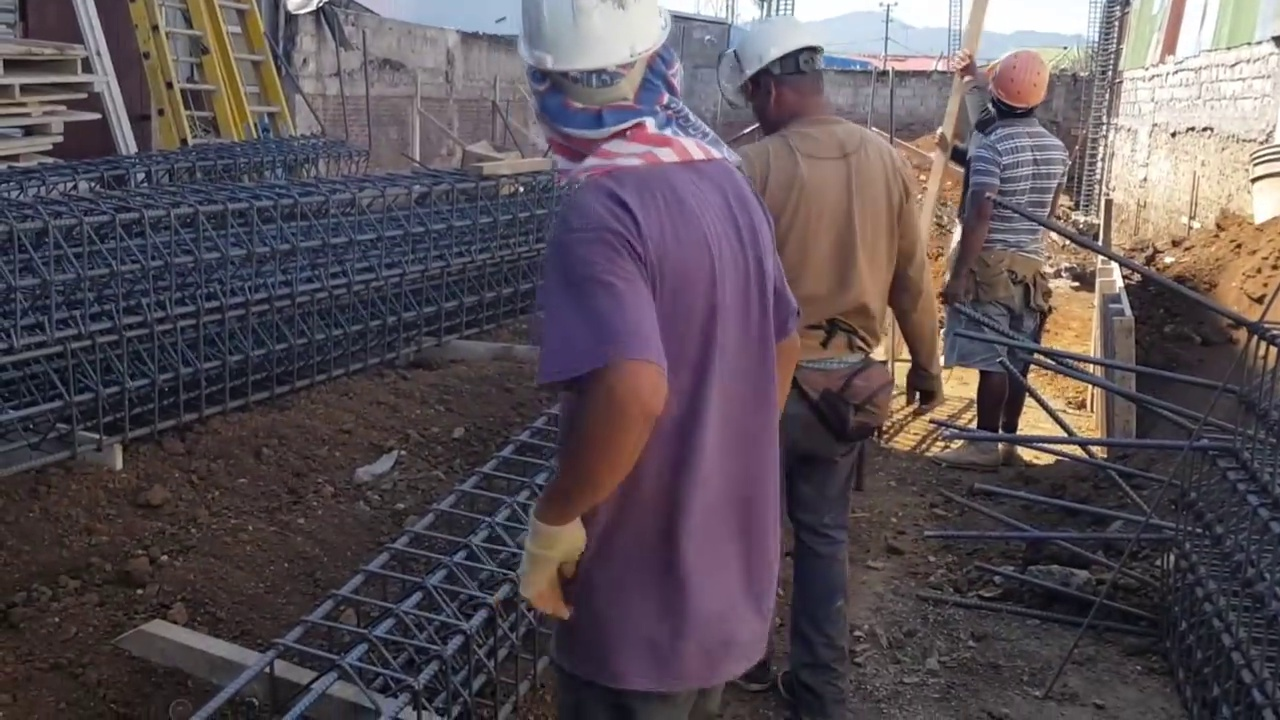helmet: (517, 3, 678, 81), (722, 23, 820, 106), (992, 49, 1058, 110)
helmet-on: (518, 0, 704, 179), (719, 18, 840, 136), (980, 44, 1058, 132)
person: (517, 9, 802, 718), (722, 33, 946, 718), (947, 31, 1068, 460)
